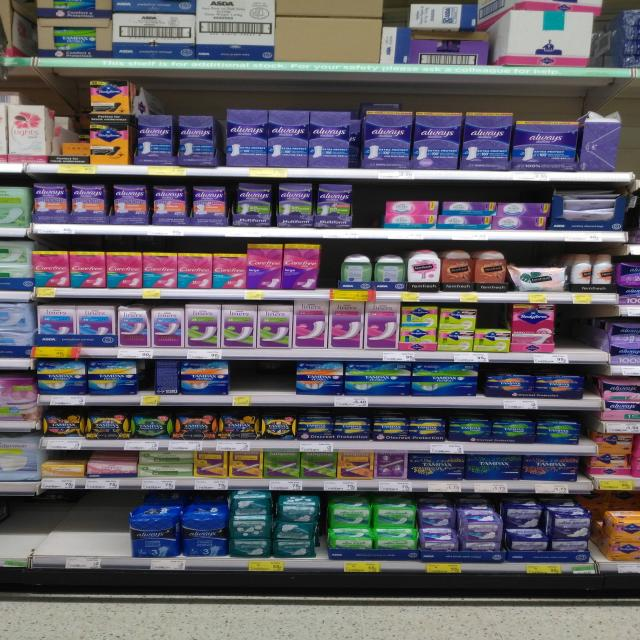void: (45, 490, 87, 571), (89, 490, 127, 572), (3, 496, 42, 572), (559, 306, 594, 366), (596, 7, 618, 78), (622, 6, 640, 84), (358, 182, 381, 242), (262, 360, 291, 405), (318, 241, 339, 302), (231, 362, 259, 407), (137, 359, 157, 407)
